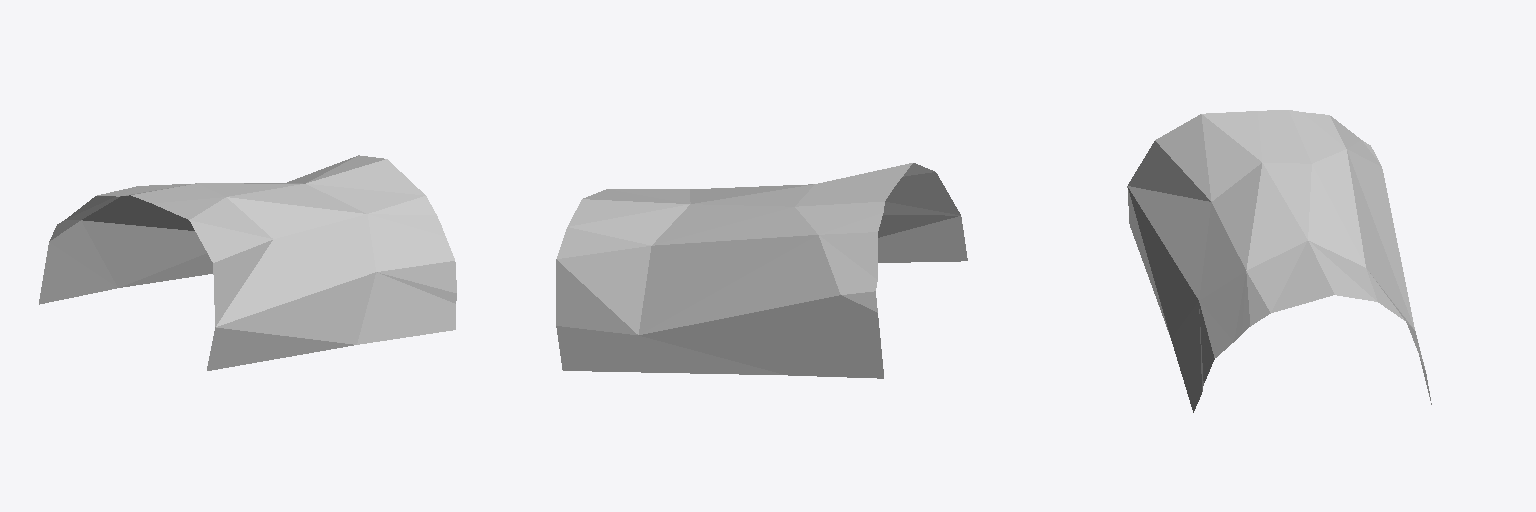
Rendered from HAND_new_42_formatting.obj.
The picture shows the model from 3 angles: view 1: azimuth 30°, elevation 25°; view 2: azimuth 150°, elevation 25°; view 3: azimuth 270°, elevation 25°; orthographic projection.
Size of the model in its own units: 14.72 by 7.62 by 11.65.